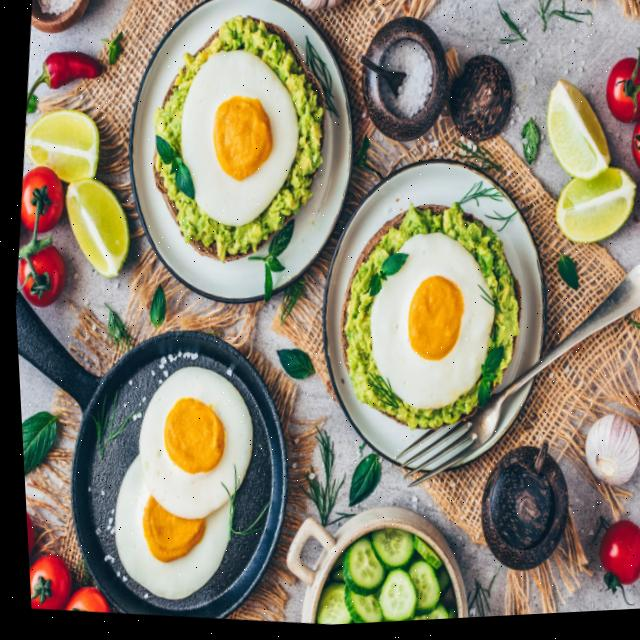Egg: (154, 52, 296, 228), (366, 236, 490, 413), (133, 367, 247, 520), (108, 455, 224, 600)
